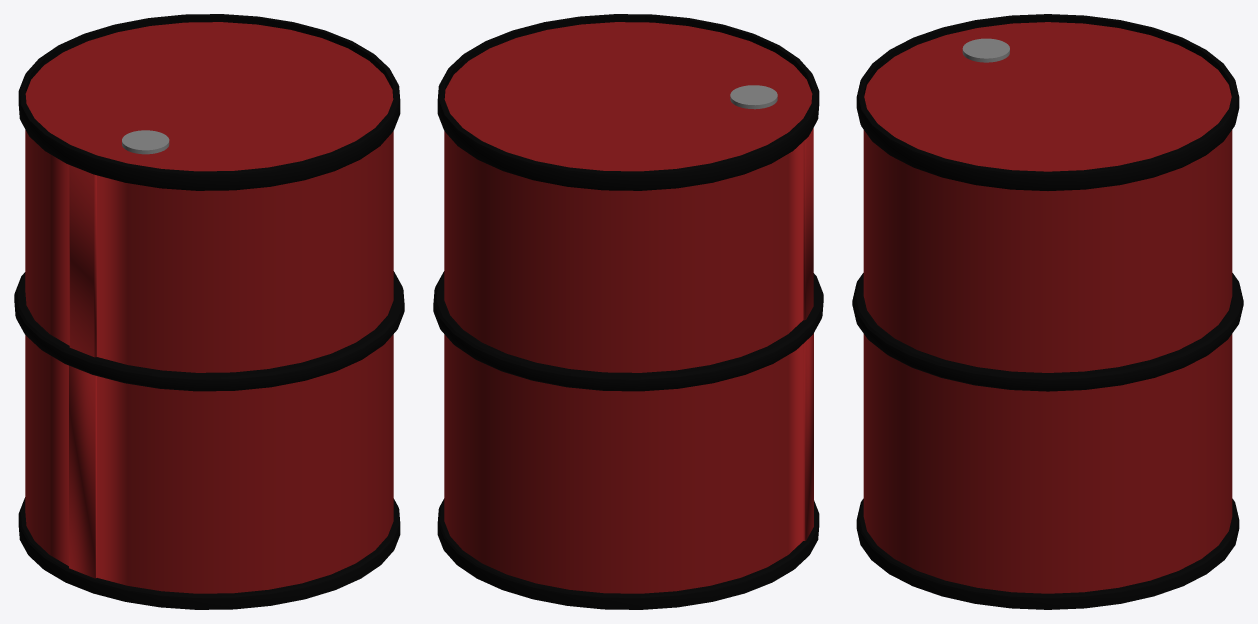
File: Varil.glb
The picture shows the model from 3 angles, left to right: view 1: azimuth 30°, elevation 25°; view 2: azimuth 150°, elevation 25°; view 3: azimuth 270°, elevation 25°; orthographic projection.
Visible parts, largest first — view 1: Cylinder; view 2: Cylinder; view 3: Cylinder.
Part boxes in pixels (<box>): Cylinder: <box>14,14,404,609</box>; Cylinder: <box>433,14,823,609</box>; Cylinder: <box>852,14,1243,609</box>.
Bounding box in the file's own units: 2.12 × 2.61 × 2.12.
